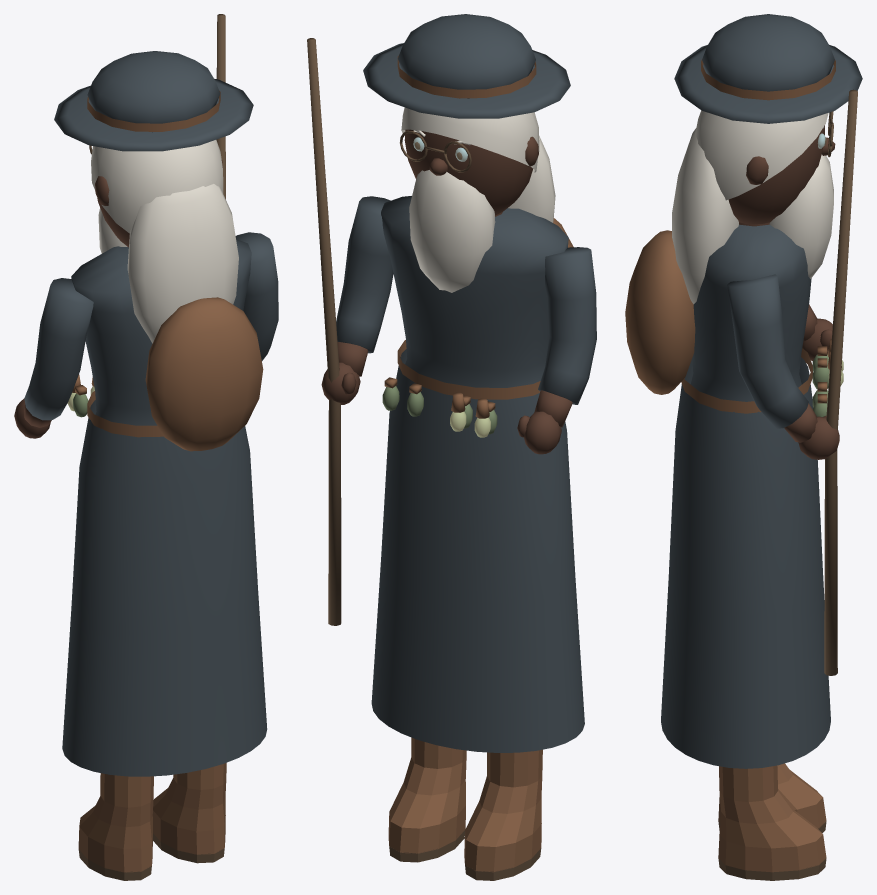
The model's file is SM_NPC_OBSIDIANA.glb.
The picture shows the model from 3 angles, left to right: view 1: azimuth 30°, elevation 25°; view 2: azimuth 150°, elevation 25°; view 3: azimuth 270°, elevation 25°; orthographic projection. The views are drawn at different scales.
Parts seen in each view (by area): view 1: SM_NPC_OBSIDIANA_BODY, SM_NPC_OBSIDIANA_HAIR, SM_NPC_OBSIDIANA_ARM_L, SM_NPC_OBSIDIANA_LEG_L, SM_NPC_OBSIDIANA_LEG_R, SM_NPC_OBSIDIANA_ARM_R, SM_NPC_OBSIDIANA_HEAD; view 2: SM_NPC_OBSIDIANA_BODY, SM_NPC_OBSIDIANA_HAIR, SM_NPC_OBSIDIANA_ARM_R, SM_NPC_OBSIDIANA_HEAD, SM_NPC_OBSIDIANA_ARM_L, SM_NPC_OBSIDIANA_LEG_L, SM_NPC_OBSIDIANA_LEG_R; view 3: SM_NPC_OBSIDIANA_BODY, SM_NPC_OBSIDIANA_HAIR, SM_NPC_OBSIDIANA_ARM_R, SM_NPC_OBSIDIANA_LEG_R, SM_NPC_OBSIDIANA_HEAD, SM_NPC_OBSIDIANA_LEG_L, SM_NPC_OBSIDIANA_ARM_L.
Boxes of the visible parts, left/top/right/bottom form: SM_NPC_OBSIDIANA_BODY: left=62, top=239, right=267, bottom=776; SM_NPC_OBSIDIANA_HAIR: left=54, top=51, right=253, bottom=343; SM_NPC_OBSIDIANA_ARM_L: left=14, top=278, right=93, bottom=438; SM_NPC_OBSIDIANA_LEG_L: left=78, top=773, right=153, bottom=880; SM_NPC_OBSIDIANA_LEG_R: left=152, top=763, right=226, bottom=863; SM_NPC_OBSIDIANA_ARM_R: left=216, top=14, right=278, bottom=360; SM_NPC_OBSIDIANA_HEAD: left=89, top=145, right=222, bottom=253; SM_NPC_OBSIDIANA_BODY: left=371, top=196, right=584, bottom=752; SM_NPC_OBSIDIANA_HAIR: left=363, top=14, right=570, bottom=222; SM_NPC_OBSIDIANA_ARM_R: left=307, top=38, right=393, bottom=625; SM_NPC_OBSIDIANA_HEAD: left=399, top=129, right=538, bottom=292; SM_NPC_OBSIDIANA_ARM_L: left=517, top=247, right=596, bottom=454; SM_NPC_OBSIDIANA_LEG_L: left=464, top=749, right=542, bottom=880; SM_NPC_OBSIDIANA_LEG_R: left=388, top=737, right=466, bottom=862; SM_NPC_OBSIDIANA_BODY: left=625, top=222, right=843, bottom=768; SM_NPC_OBSIDIANA_HAIR: left=672, top=14, right=862, bottom=304; SM_NPC_OBSIDIANA_ARM_R: left=727, top=89, right=857, bottom=675; SM_NPC_OBSIDIANA_LEG_R: left=718, top=765, right=826, bottom=880; SM_NPC_OBSIDIANA_HEAD: left=728, top=111, right=835, bottom=278; SM_NPC_OBSIDIANA_LEG_L: left=718, top=763, right=826, bottom=833; SM_NPC_OBSIDIANA_ARM_L: left=802, top=304, right=832, bottom=360.
Size of the model in its own units: 0.5578 by 1.78 by 0.4652.
